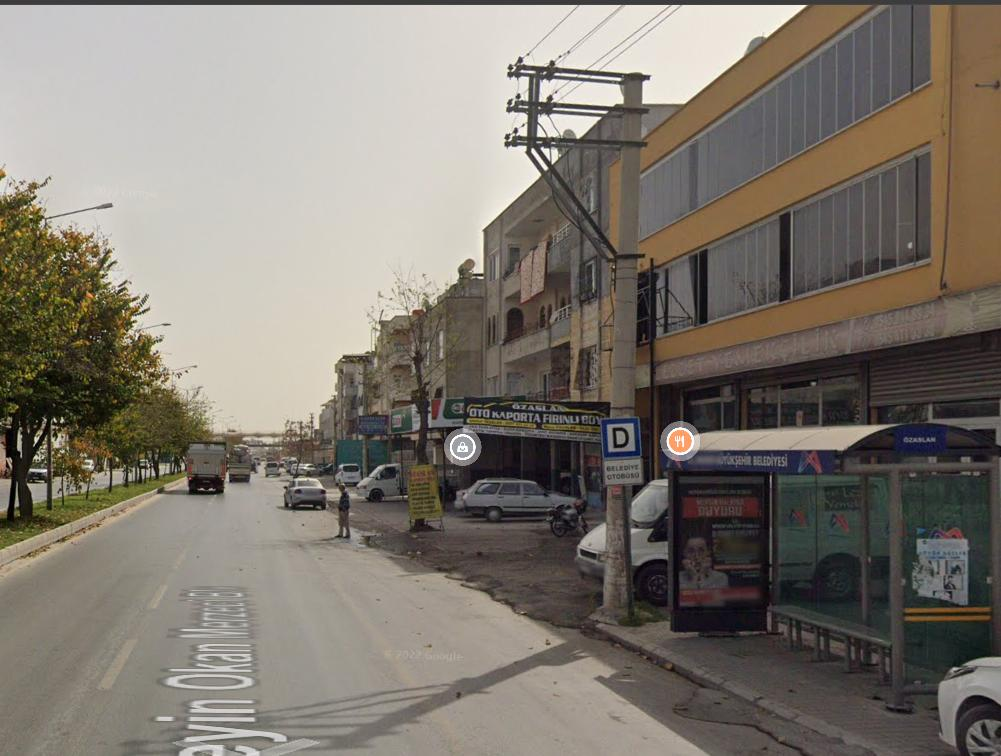station: (605, 419, 638, 453)
